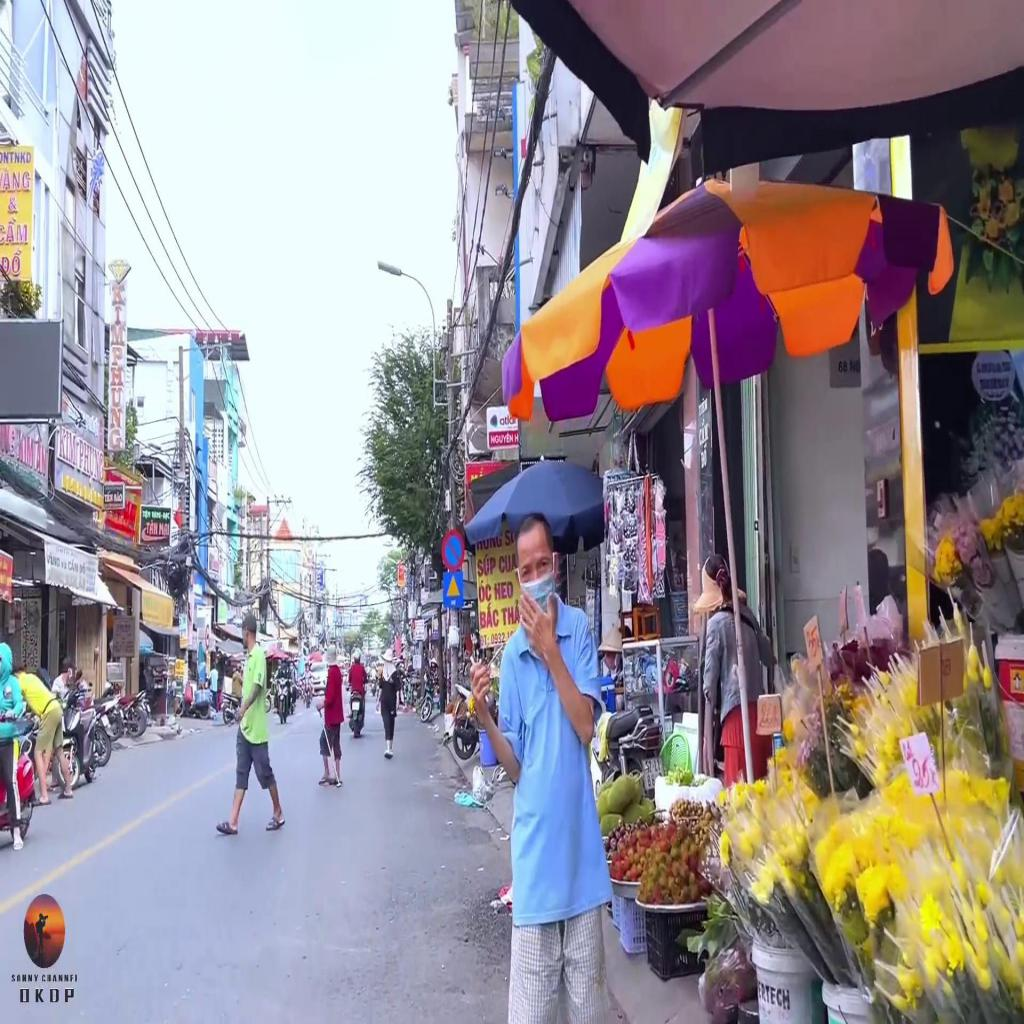cam_do_xe: (443, 531, 465, 571)
cam_o_to_tai: (205, 625, 210, 649)
cho: (442, 570, 463, 608)
